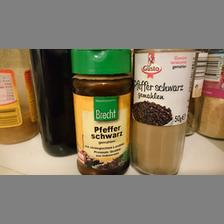Gewuerze: (132, 47, 196, 172), (70, 49, 130, 173)
